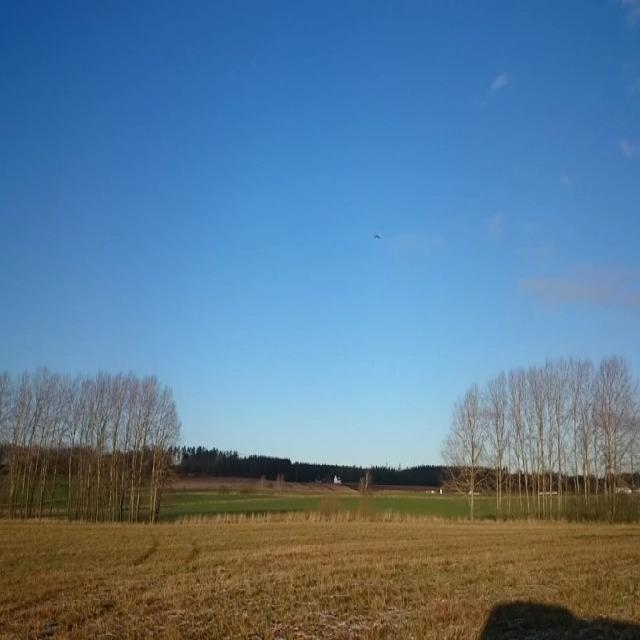drone: (374, 231, 384, 239)
